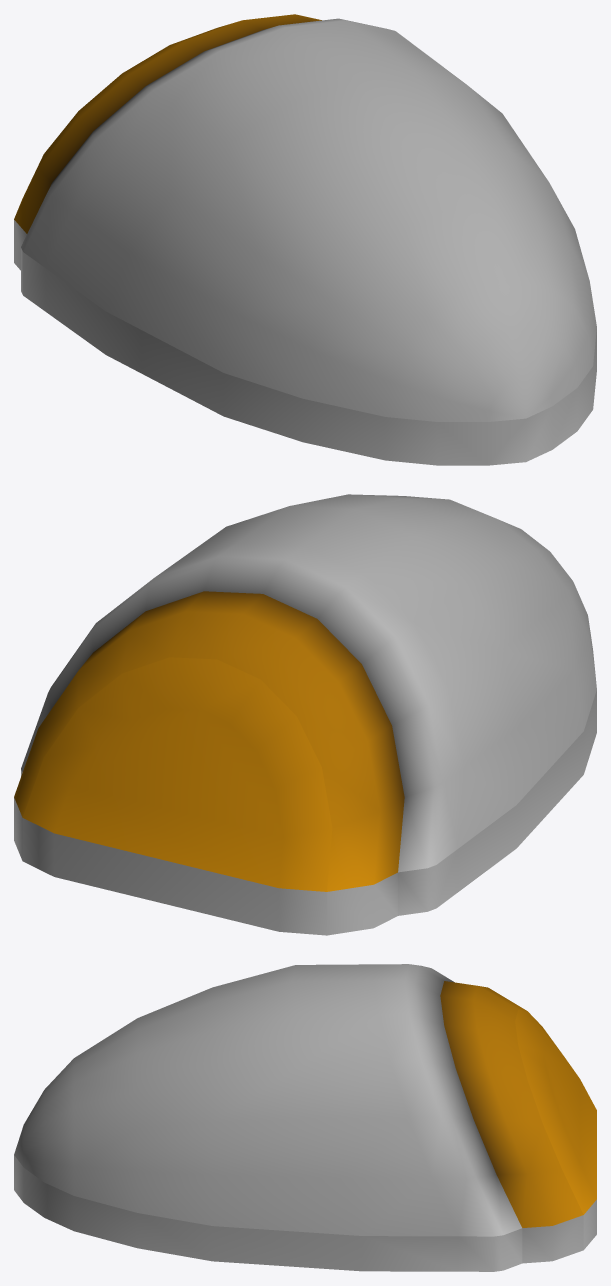
File: obj_dekotora_sidelight_pose0.fbx
The picture shows the model from 3 angles, top to bottom: view 1: azimuth 30°, elevation 25°; view 2: azimuth 150°, elevation 25°; view 3: azimuth 270°, elevation 25°; orthographic projection. The views are drawn at different scales.
Visible parts, largest first — view 1: Sphere.003, Sphere.006; view 2: Sphere.003, Sphere.006; view 3: Sphere.003, Sphere.006.
Boxes of the visible parts, box(x1,y1,x2,y2) form: Sphere.003: box(14, 18, 596, 465); Sphere.006: box(14, 14, 321, 233); Sphere.003: box(14, 494, 596, 935); Sphere.006: box(14, 591, 404, 891); Sphere.003: box(14, 964, 596, 1271); Sphere.006: box(440, 981, 596, 1227).
Bounding box in the file's own units: 1.99 × 1.19 × 3.
